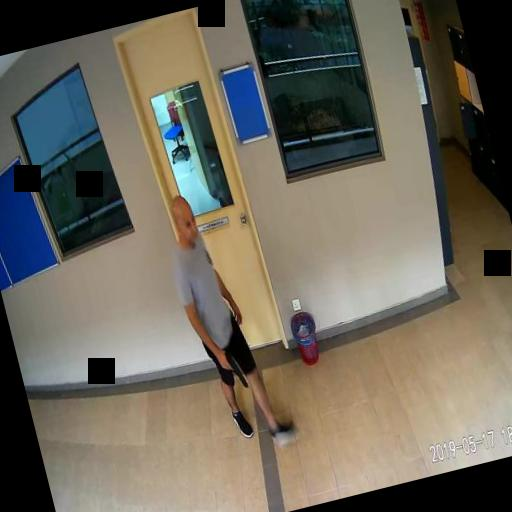Handgun: (216, 348, 246, 392)
